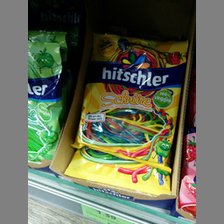candy: (73, 35, 188, 174), (28, 30, 67, 169)
